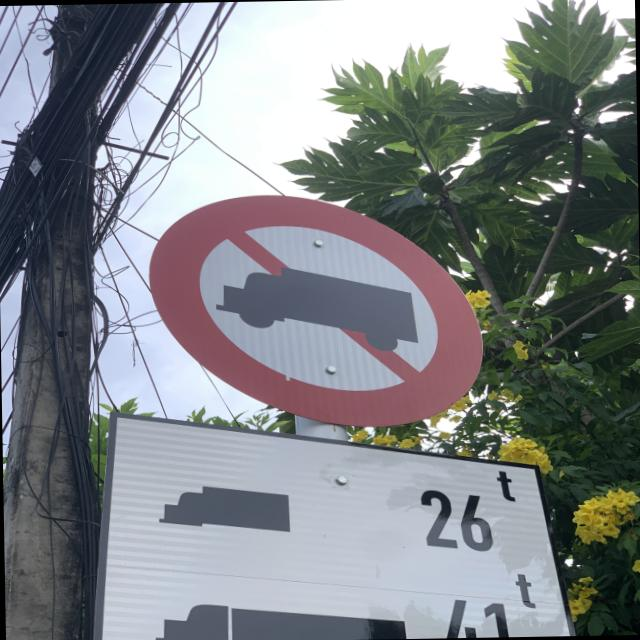Cam_Xe_Tai: (154, 190, 492, 432)
